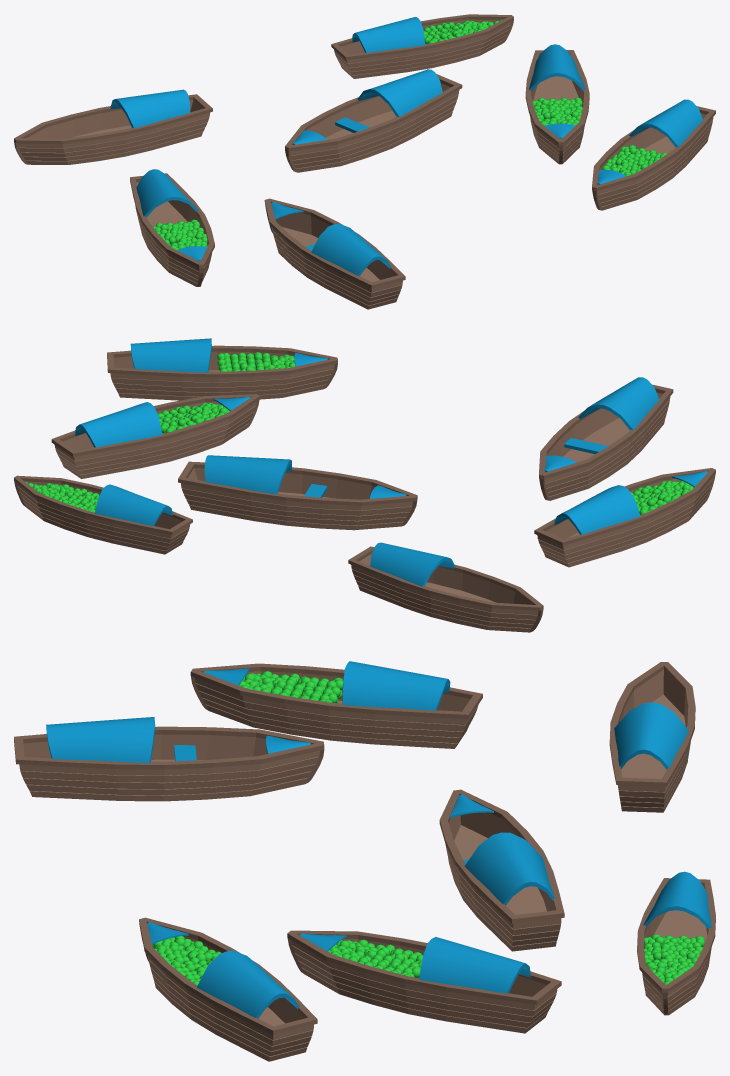
Rendered from Boats.fbx.
3 views of the same model, one above another, from view 1: azimuth 30°, elevation 25°; view 2: azimuth 150°, elevation 25°; view 3: azimuth 270°, elevation 25° (orthographic). The views are drawn at different scales.
Visible parts, largest first — view 1: Boat Body.007, Boat Body.004, Boat Body.005, Boat Body.006, Cube.001, Cube.005, Cube.002, Fruits.005, Fruits.007, Fruits.003, Fruits.006; view 2: Boat Body.007, Cube.001, Boat Body.004, Cube.002, Boat Body.005, Cube.005, Boat Body.006, Fruits.003, Fruits.005, Fruits.007, Fruits.006; view 3: Boat Body.005, Cube.005, Cube.002, Boat Body.007, Cube.001, Boat Body.004, Boat Body.006, Fruits.006, Fruits.007, Fruits.005, Fruits.003.
Part boxes in pixels (x1,y1,x2,y2): Boat Body.007: [285, 69, 462, 172]; Boat Body.004: [14, 89, 212, 164]; Boat Body.005: [264, 198, 405, 309]; Boat Body.006: [331, 14, 513, 78]; Cube.001: [592, 99, 715, 210]; Cube.005: [130, 169, 214, 286]; Cube.002: [525, 44, 589, 164]; Fruits.005: [532, 97, 582, 139]; Fruits.007: [153, 219, 207, 261]; Fruits.003: [602, 145, 667, 175]; Fruits.006: [423, 19, 502, 44]; Boat Body.007: [178, 455, 417, 530]; Cube.001: [107, 338, 337, 400]; Boat Body.004: [348, 542, 543, 632]; Cube.002: [51, 394, 259, 478]; Boat Body.005: [539, 377, 673, 500]; Cube.005: [534, 468, 715, 567]; Boat Body.006: [14, 475, 192, 554]; Fruits.003: [217, 352, 295, 371]; Fruits.005: [157, 403, 229, 433]; Fruits.007: [630, 480, 694, 514]; Fruits.006: [25, 481, 99, 512]; Boat Body.005: [14, 717, 324, 801]; Cube.005: [190, 661, 482, 748]; Cube.002: [287, 930, 561, 1033]; Boat Body.007: [439, 789, 564, 951]; Cube.001: [139, 917, 317, 1061]; Boat Body.004: [609, 662, 695, 812]; Boat Body.006: [637, 871, 715, 1015]; Fruits.006: [644, 934, 704, 984]; Fruits.007: [239, 671, 343, 703]; Fruits.005: [328, 939, 423, 978]; Fruits.003: [152, 936, 221, 985].
Bounding box in the file's own units: 2.54 × 0.2184 × 2.05.
